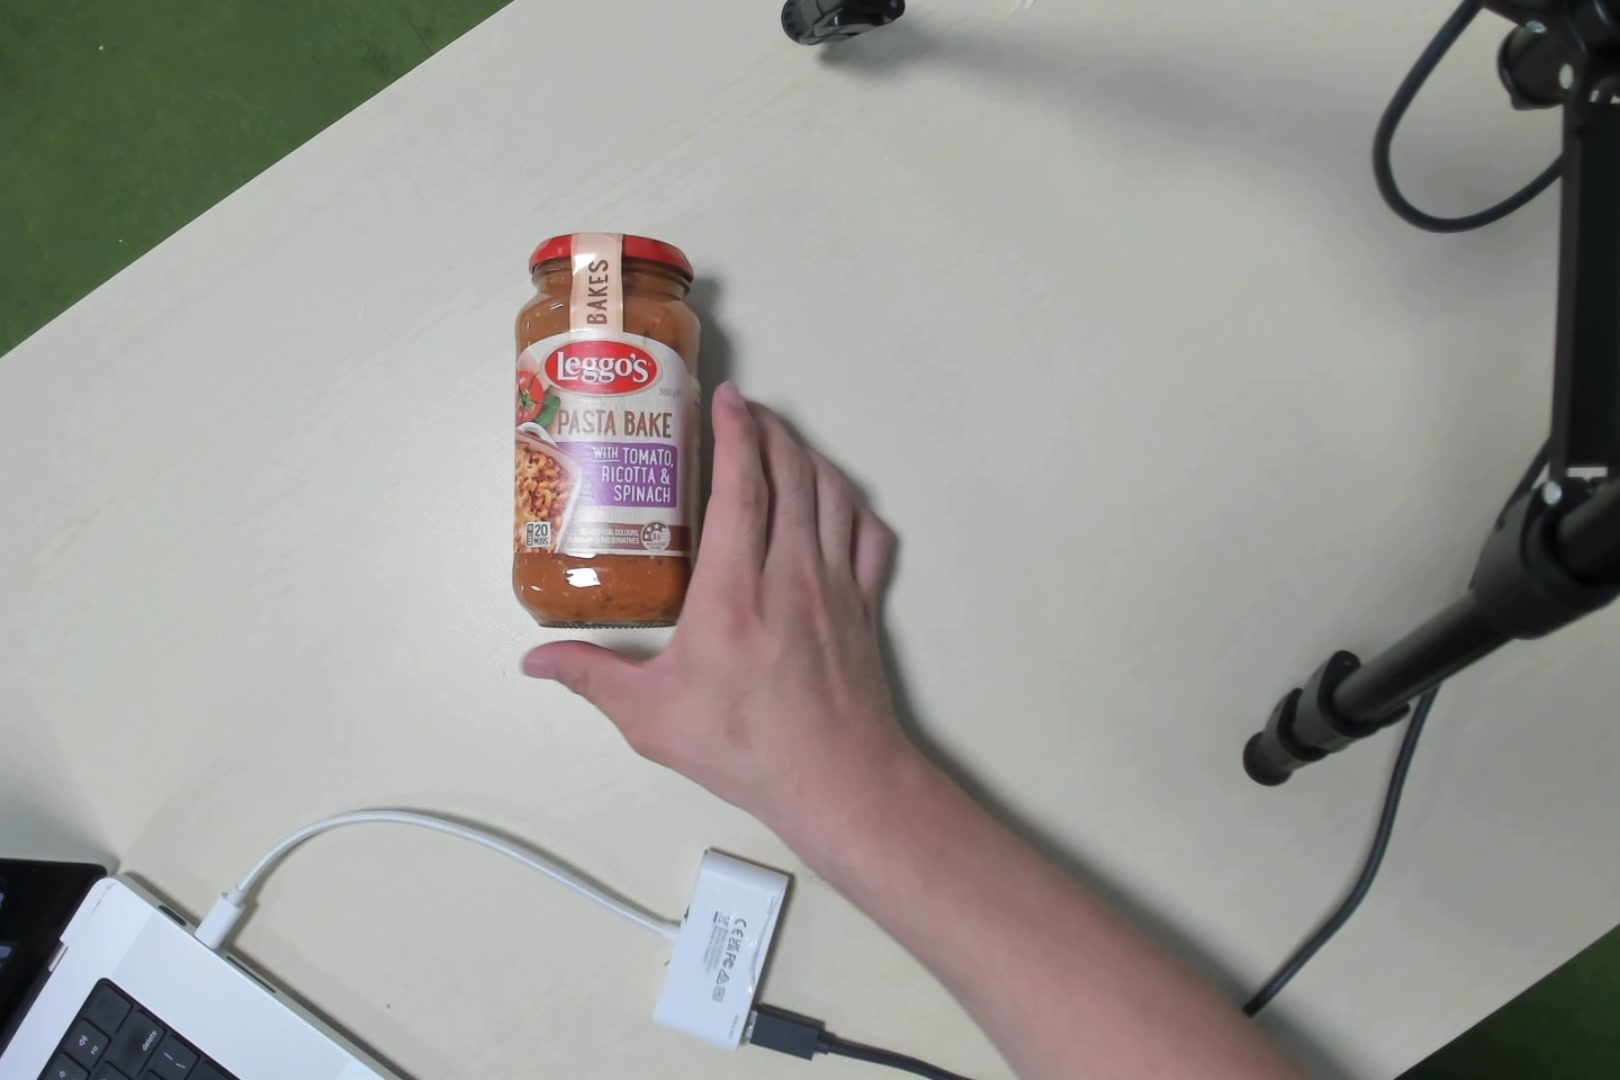Pasta_500-599g_Halal_NonHealthy: (493, 229, 699, 648)
